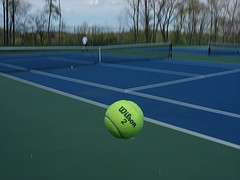tennis ball: (103, 99, 144, 141)
